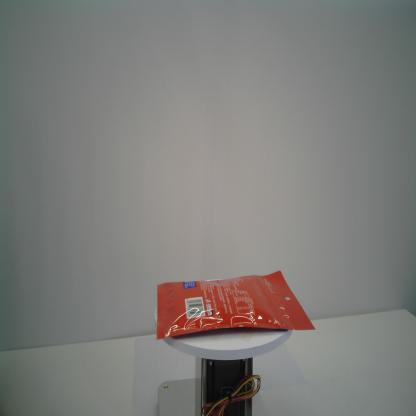Dried Fruit: (155, 268, 316, 346)
